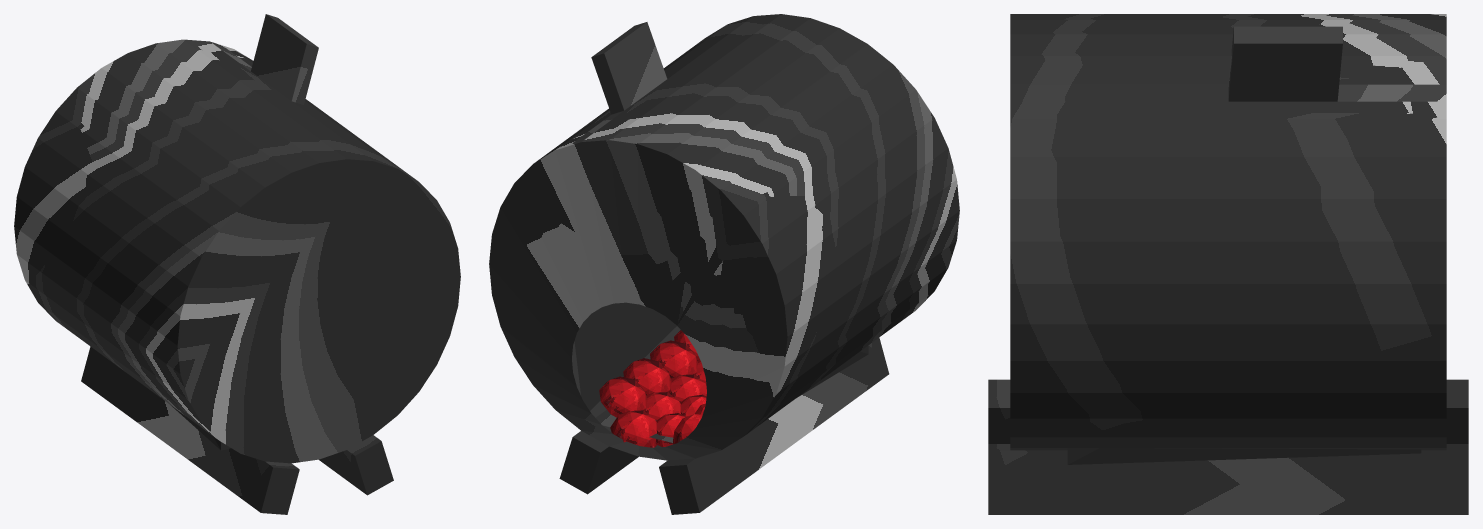
The model's file is Boiler.obj.
3 views of the same model, side by side, from view 1: azimuth 30°, elevation 25°; view 2: azimuth 150°, elevation 25°; view 3: azimuth 270°, elevation 25° (orthographic). The views are drawn at different scales.
Parts seen in each view (by area): view 1: Machine_Circle; view 2: Machine_Circle, Cube, Coal.004_Icosphere.004, Coal_Icosphere, Coal.014_Icosphere.014, Coal.005_Icosphere.005, Coal.010_Icosphere.010, Coal.009_Icosphere.009, Coal.001_Icosphere.001; view 3: Machine_Circle, Cube.
Boxes of the visible parts, x1=… form: Machine_Circle: x1=14, y1=14, x2=460, y2=514; Machine_Circle: x1=489, y1=14, x2=959, y2=514; Cube: x1=574, y1=302, x2=868, y2=442; Coal.004_Icosphere.004: x1=599, y1=376, x2=647, y2=417; Coal_Icosphere: x1=610, y1=410, x2=656, y2=447; Coal.014_Icosphere.014: x1=650, y1=340, x2=698, y2=378; Coal.005_Icosphere.005: x1=623, y1=358, x2=671, y2=395; Coal.010_Icosphere.010: x1=669, y1=374, x2=706, y2=402; Coal.009_Icosphere.009: x1=645, y1=392, x2=680, y2=420; Coal.001_Icosphere.001: x1=655, y1=413, x2=686, y2=447; Machine_Circle: x1=988, y1=14, x2=1468, y2=514; Cube: x1=1067, y1=448, x2=1421, y2=464.
Bounding box in the file's own units: 0.9084 × 1.15 × 0.9992.
